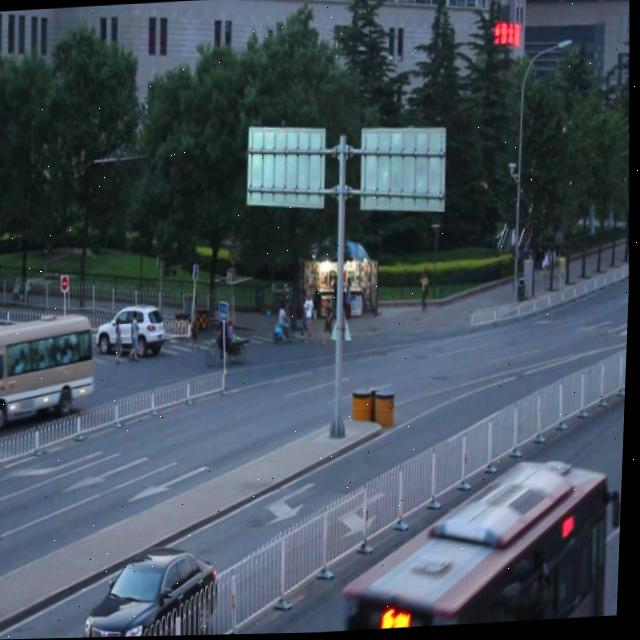car: (83, 545, 223, 638), (98, 301, 167, 356)
truck: (0, 320, 98, 422)
van: (347, 452, 615, 632)
